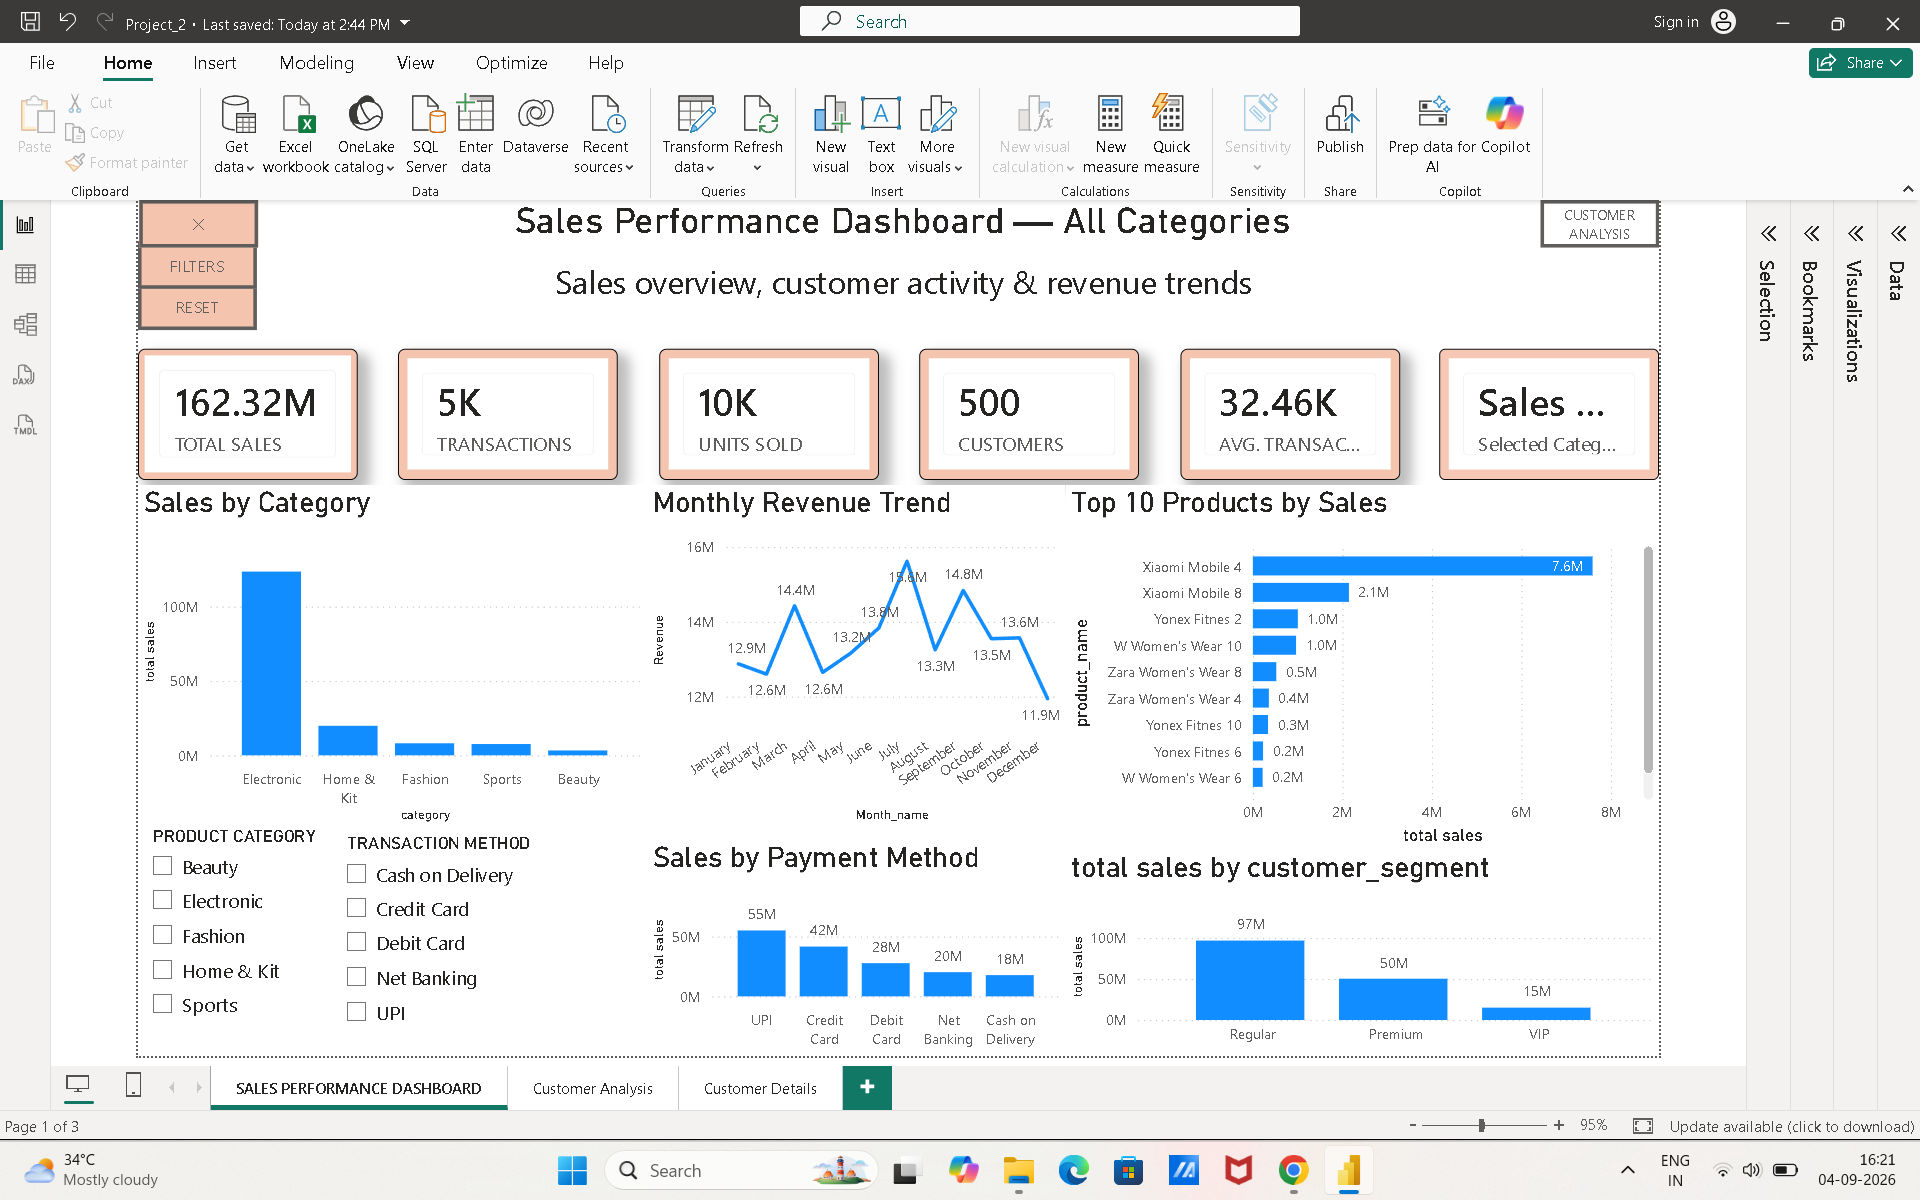

The page's visual inventory and layout, read from the dashboard file:
{"tool":"powerbi","page":{"name":"SALES PERFORMANCE DASHBOARD","canvas":[1280,720],"ordinal":0},"visuals":[{"type":"cardVisual","fields":{"Data":["project2 fact_sales.total sales"]},"box":[0,125.5,185,110],"z":0},{"type":"slicer","fields":{"Values":["project2 dim_product.category"]},"box":[0,521.5,174.5,198.7],"z":0,"group":"g1"},{"type":"cardVisual","fields":{"Data":["project2 fact_sales.total transactions"]},"box":[219.2,125.5,185,110],"z":1000},{"type":"slicer","fields":{"Values":["project2 fact_sales.payment_method"]},"box":[163,527.8,253.4,192.4],"z":1000,"group":"g1"},{"type":"cardVisual","fields":{"Data":["project2 fact_sales.total quantity"]},"box":[438.4,125.5,185,110],"z":2000},{"type":"cardVisual","fields":{"Data":["project2 fact_sales.Total Customers"]},"box":[657.6,125.5,185,110],"z":3000},{"type":"cardVisual","fields":{"Data":["project2 fact_sales.Average Transaction Value"]},"box":[876.8,125.5,185,110],"z":4000},{"type":"clusteredColumnChart","title":"Sales by Category","fields":{"Category":["project2 dim_product.category"],"Y":["project2 fact_sales.total sales"]},"box":[0,240.2,427.5,288.2],"z":5000},{"type":"lineChart","title":"Monthly Revenue Trend","fields":{"Category":["project2 dim_date.Month_name"],"Y":["project2 fact_sales.total sales"]},"box":[427.5,240.2,351.8,288.2],"z":6000},{"type":"textbox","box":[101.1,0,1085.1,108.3],"z":7000},{"type":"clusteredColumnChart","title":"Sales by Payment Method","fields":{"Category":["project2 fact_sales.payment_method"],"Y":["project2 fact_sales.total sales"]},"box":[427.5,537.9,353,182.5],"z":8000},{"type":"clusteredBarChart","title":"Top 10 Products by Sales","fields":{"Category":["project2 dim_product.product_name"],"Y":["project2 fact_sales.total sales"]},"box":[780.5,240.2,499.5,307.4],"z":9000},{"type":"clusteredColumnChart","fields":{"Category":["project2 dim_customer.customer_segment"],"Y":["project2 fact_sales.total sales"]},"box":[780,547,500,173],"z":10000},{"type":"group","id":"g1","title":"Filter Panel","box":[0,521.5,416.4,198.7],"z":11000},{"type":"actionButton","title":"RESET","box":[0,69.8,100,40],"z":12000},{"type":"actionButton","box":[0,34.8,100,40],"z":13000},{"type":"actionButton","box":[0,0,100,40],"z":14000},{"type":"actionButton","box":[1180.2,0,100,40],"z":15000},{"type":"cardVisual","fields":{"Data":["project2 dim_product.Selected Category"]},"box":[1095,125.5,185,110],"z":16000}]}

Visuals, with their boxes on the page's 1280x720 design canvas (x1, y1, x2, y2). These are canvas units, not pixel positions in the 1920x1200 screenshot, which may show the page scaled, cropped or inside an application window:
cardVisual - project2 fact_sales.total sales: box(0, 126, 185, 236)
slicer - project2 dim_product.category: box(0, 522, 174, 720)
cardVisual - project2 fact_sales.total transactions: box(219, 126, 404, 236)
slicer - project2 fact_sales.payment_method: box(163, 528, 416, 720)
cardVisual - project2 fact_sales.total quantity: box(438, 126, 623, 236)
cardVisual - project2 fact_sales.Total Customers: box(658, 126, 843, 236)
cardVisual - project2 fact_sales.Average Transaction Value: box(877, 126, 1062, 236)
"Sales by Category" clusteredColumnChart: box(0, 240, 428, 528)
"Monthly Revenue Trend" lineChart: box(428, 240, 779, 528)
textbox: box(101, 0, 1186, 108)
"Sales by Payment Method" clusteredColumnChart: box(428, 538, 780, 720)
"Top 10 Products by Sales" clusteredBarChart: box(780, 240, 1280, 548)
clusteredColumnChart - project2 dim_customer.customer_segment x project2 fact_sales.total sales: box(780, 547, 1280, 720)
"Filter Panel" group: box(0, 522, 416, 720)
"RESET" actionButton: box(0, 70, 100, 110)
actionButton: box(0, 35, 100, 75)
actionButton: box(0, 0, 100, 40)
actionButton: box(1180, 0, 1280, 40)
cardVisual - project2 dim_product.Selected Category: box(1095, 126, 1280, 236)
